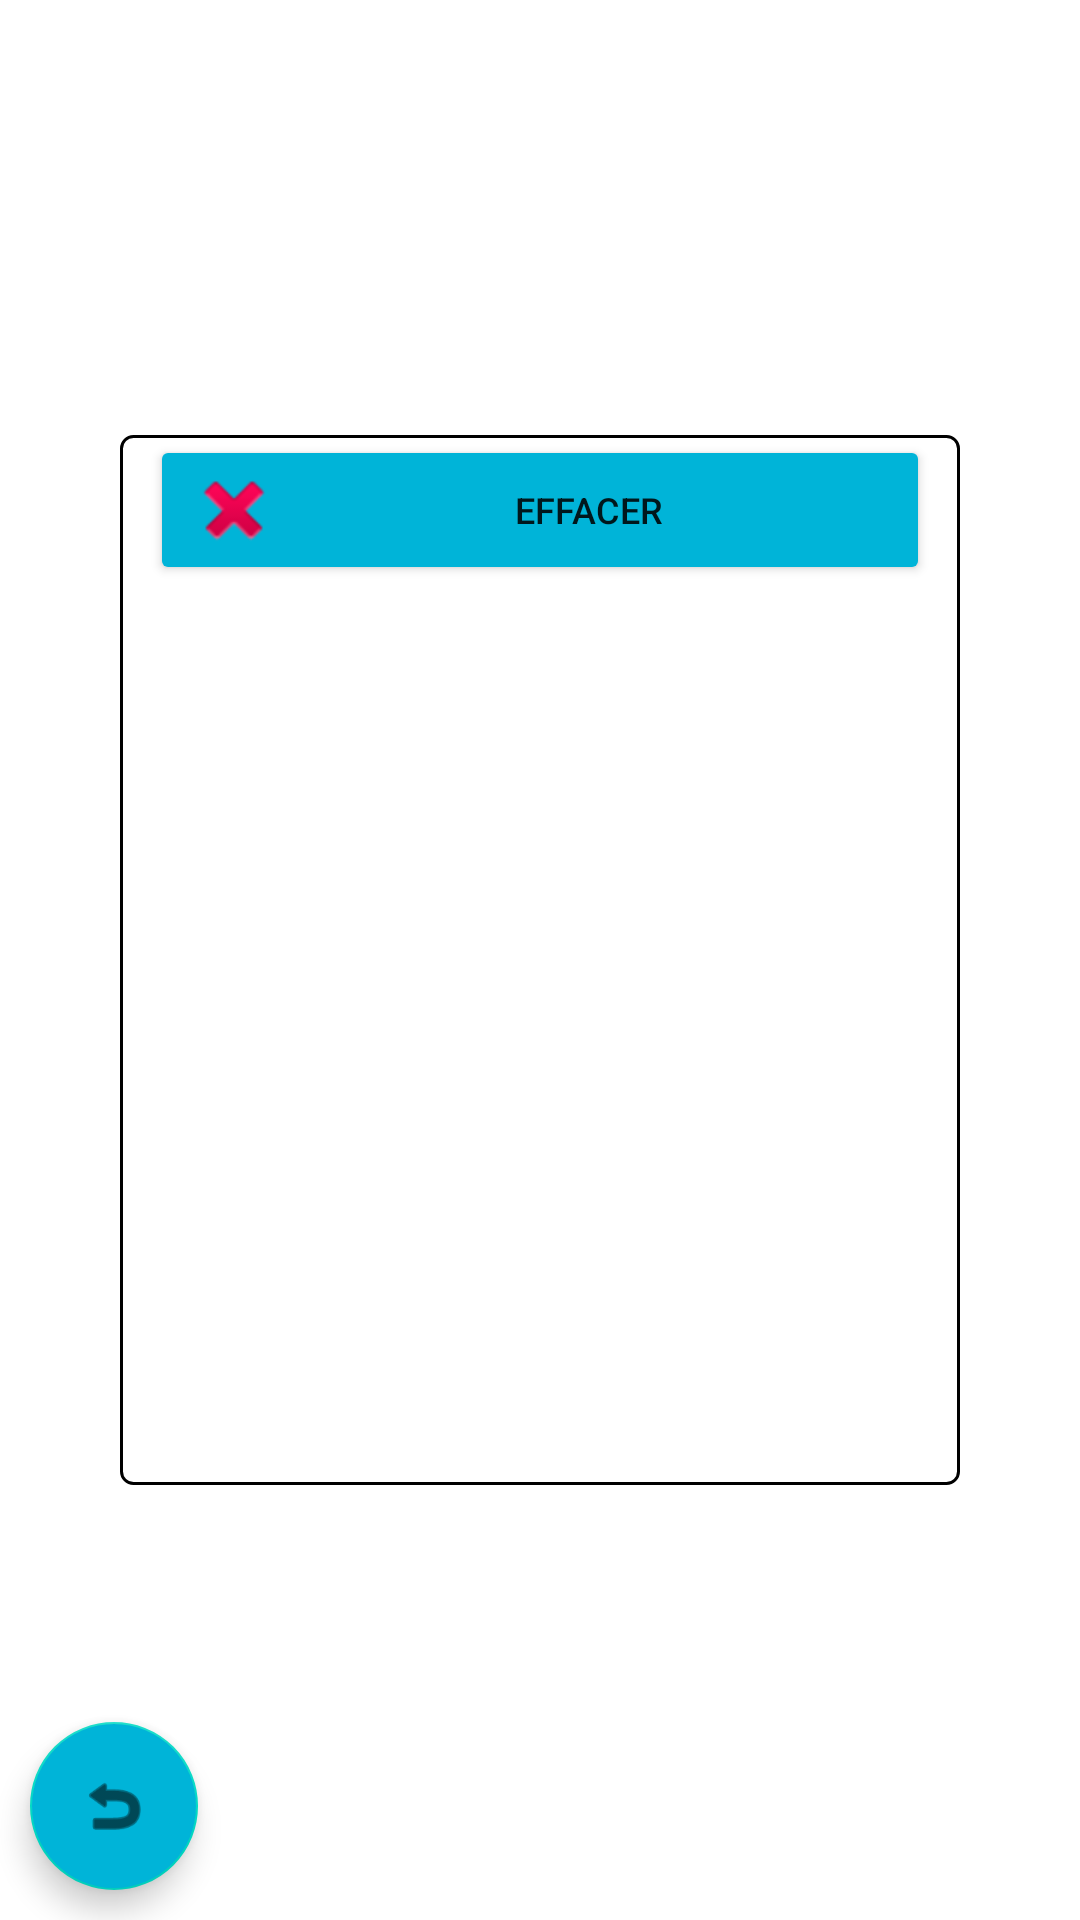

Point at icon controls on the screen. Image size 1080 × 1920, points as [x,y].
revert: [114,1806]
